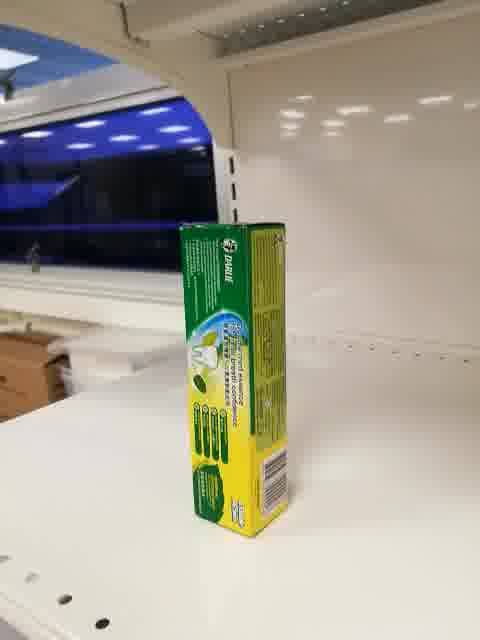toothpaste: (182, 222, 292, 539)
